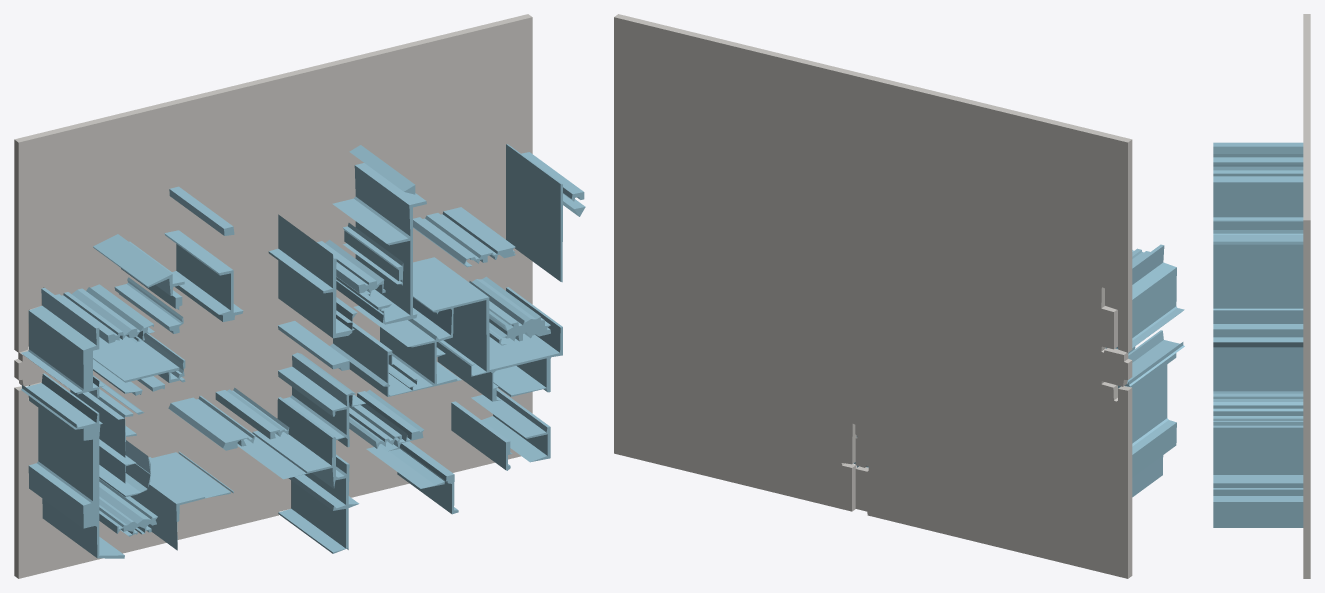
3 renders of one model, left to right at view 1: azimuth 30°, elevation 25°; view 2: azimuth 150°, elevation 25°; view 3: azimuth 270°, elevation 25°, orthographic. The views are drawn at different scales.
Visible parts, largest first — view 1: world; view 2: world; view 3: world.
Boxes of the visible parts, x1,y1,x2,y2 form: world: [14, 14, 585, 578]; world: [614, 14, 1184, 578]; world: [1213, 14, 1310, 578].
Bounding box in the file's own units: 10.23 × 8.3 × 2.03.
